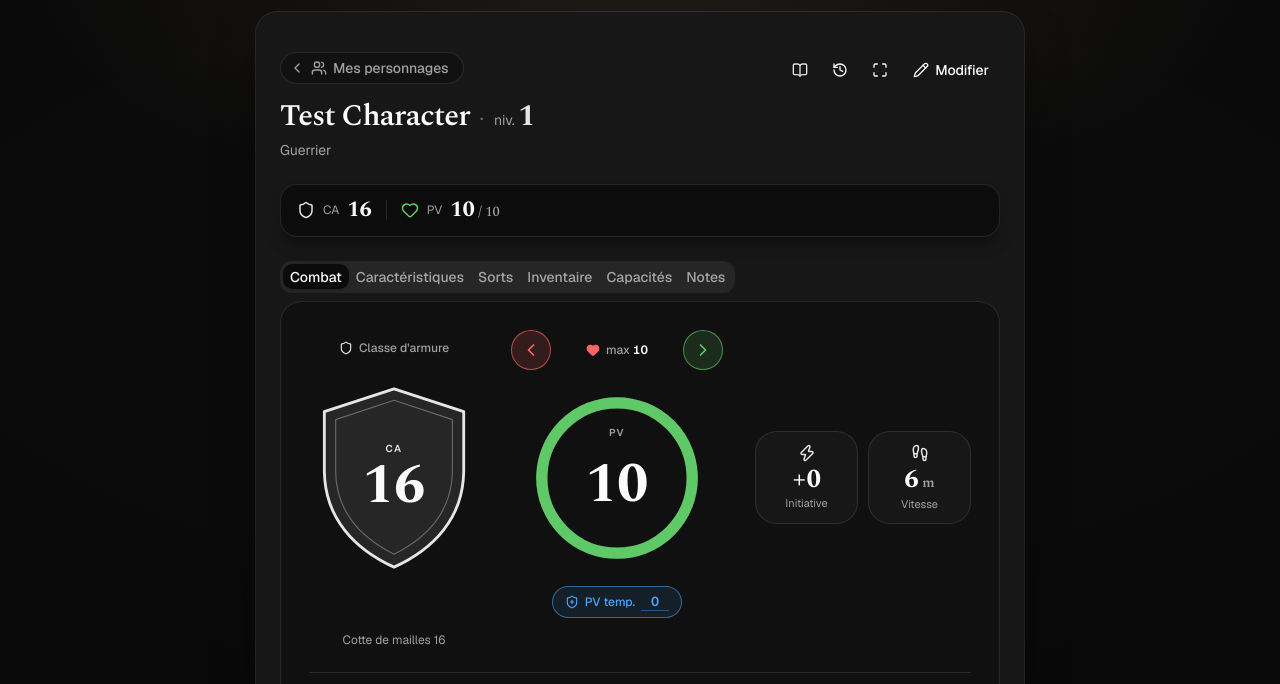
Test: PlayDetailSheet (via CharacterPlay) › opens an inventory item from the Inventaire tab; the stepper keeps its own action
The width and height of the screenshot is (1280, 684).
Expected: the heading "Test Character" is shown, x1=280 y1=98 x2=470 y2=134
Click the tab "Inventaire": (560, 277) x1=520 y1=264 x2=599 y2=289
(page scrolled)
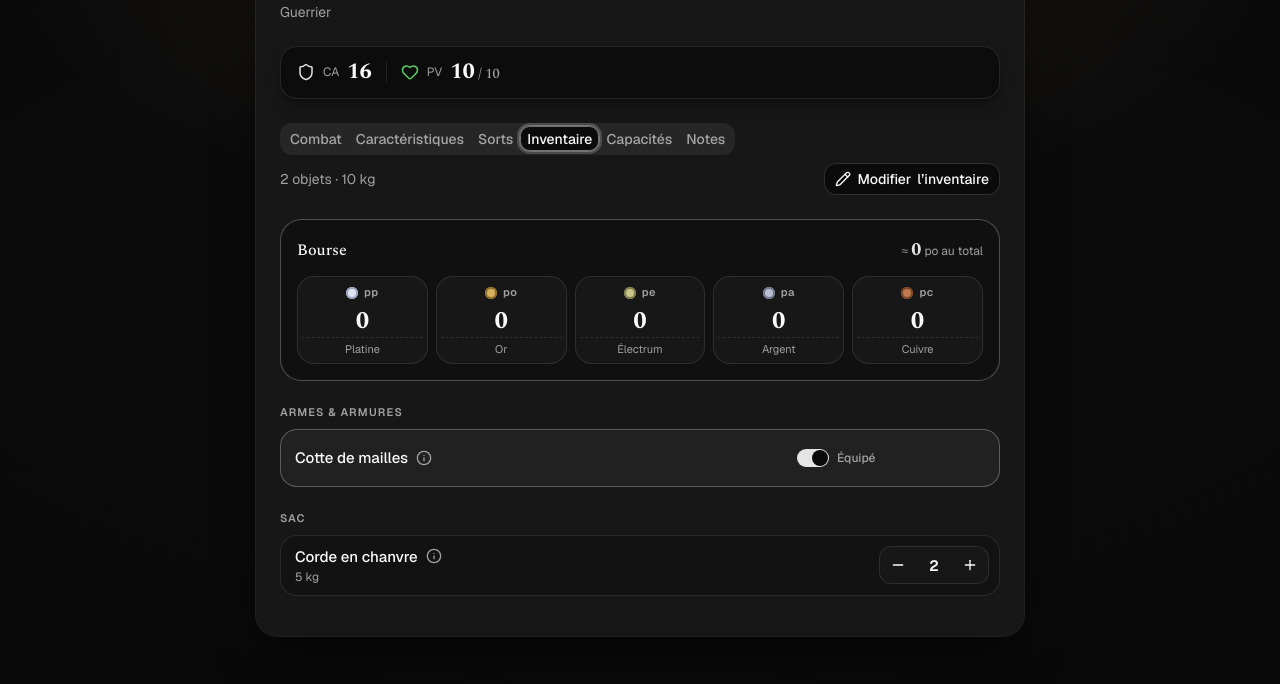
Click the button named "Ajouter 1 Corde en chanvre": (970, 565) x1=952 y1=547 x2=988 y2=583
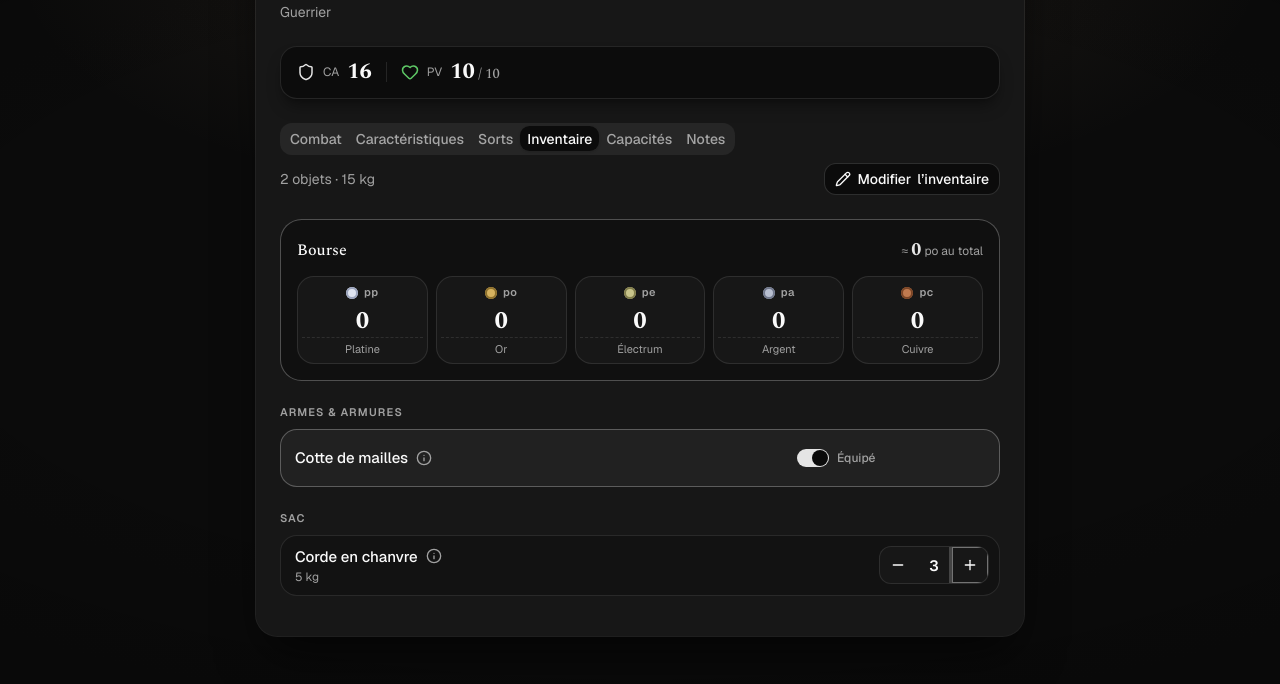
Click the button named "Détails : Corde en chanvre": (640, 565) x1=281 y1=536 x2=999 y2=595
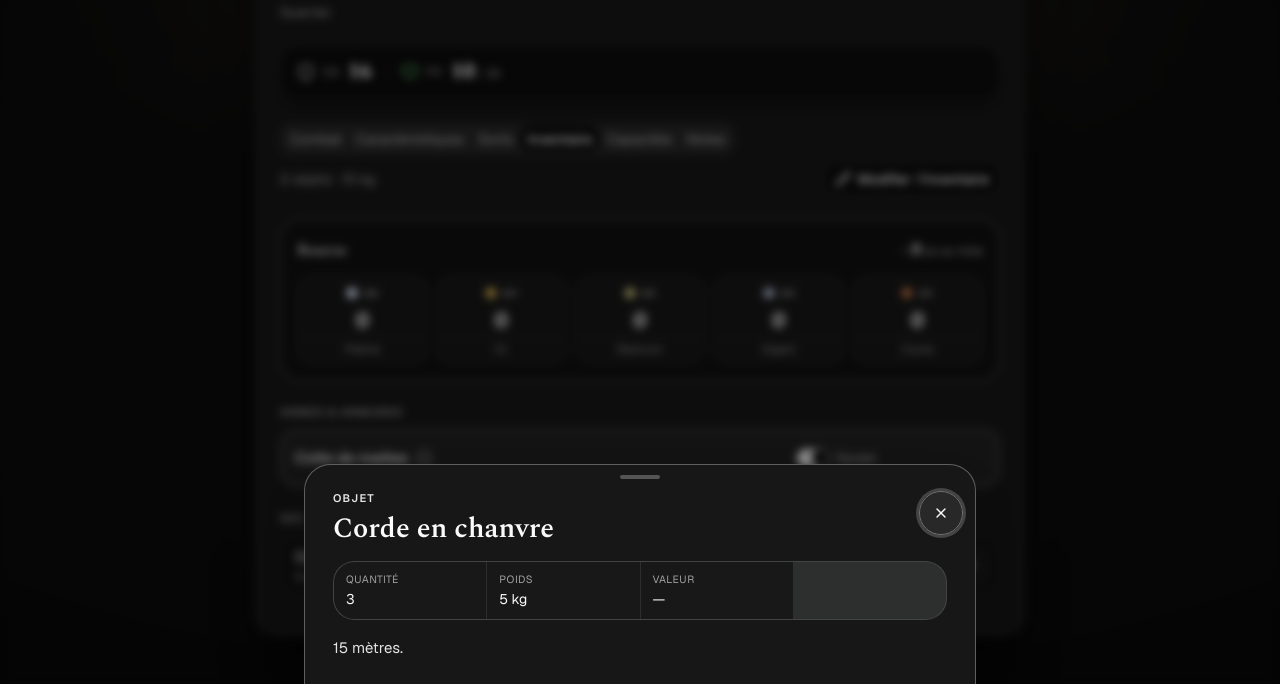
Now the text "Objet" is shown, box x1=333 y1=491 x2=375 y2=505
Now the text "3" is shown, box x1=346 y1=590 x2=355 y2=608
Now the text "5 kg" is shown, box x1=499 y1=590 x2=527 y2=608
Click the button named "Fermer": (941, 513) x1=919 y1=491 x2=963 y2=535
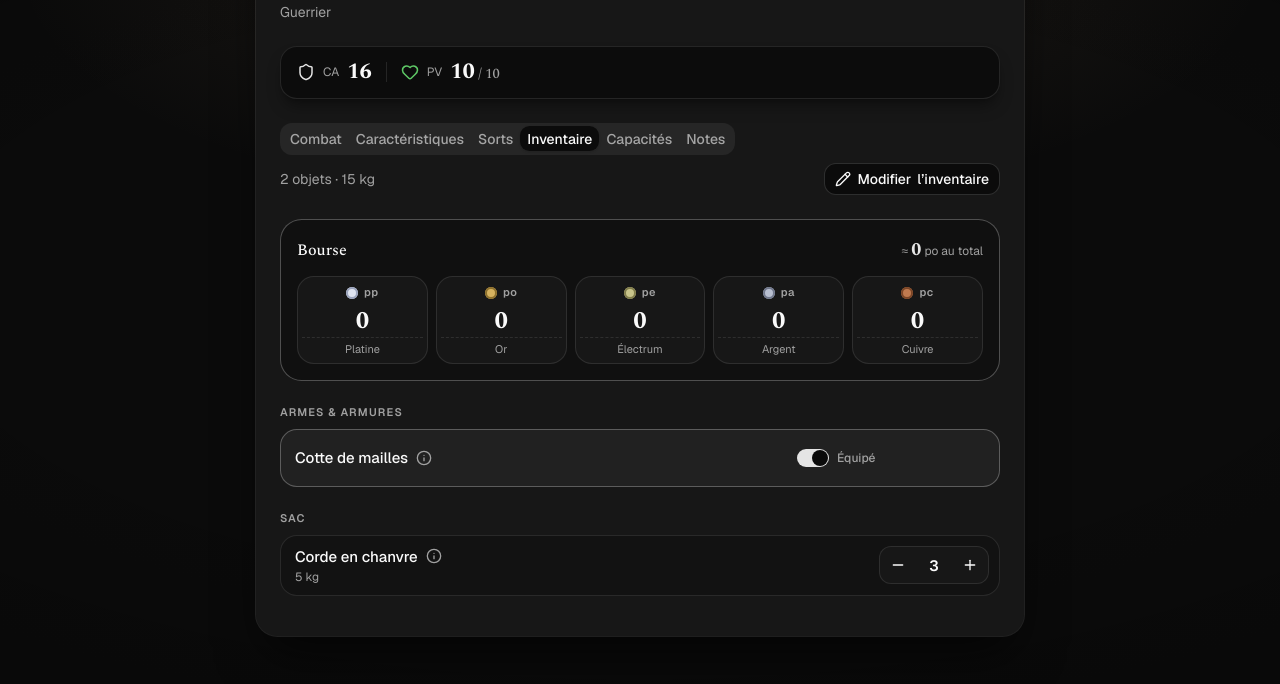
Click the button named "Détails : Cotte de mailles": (640, 458) x1=281 y1=430 x2=999 y2=486
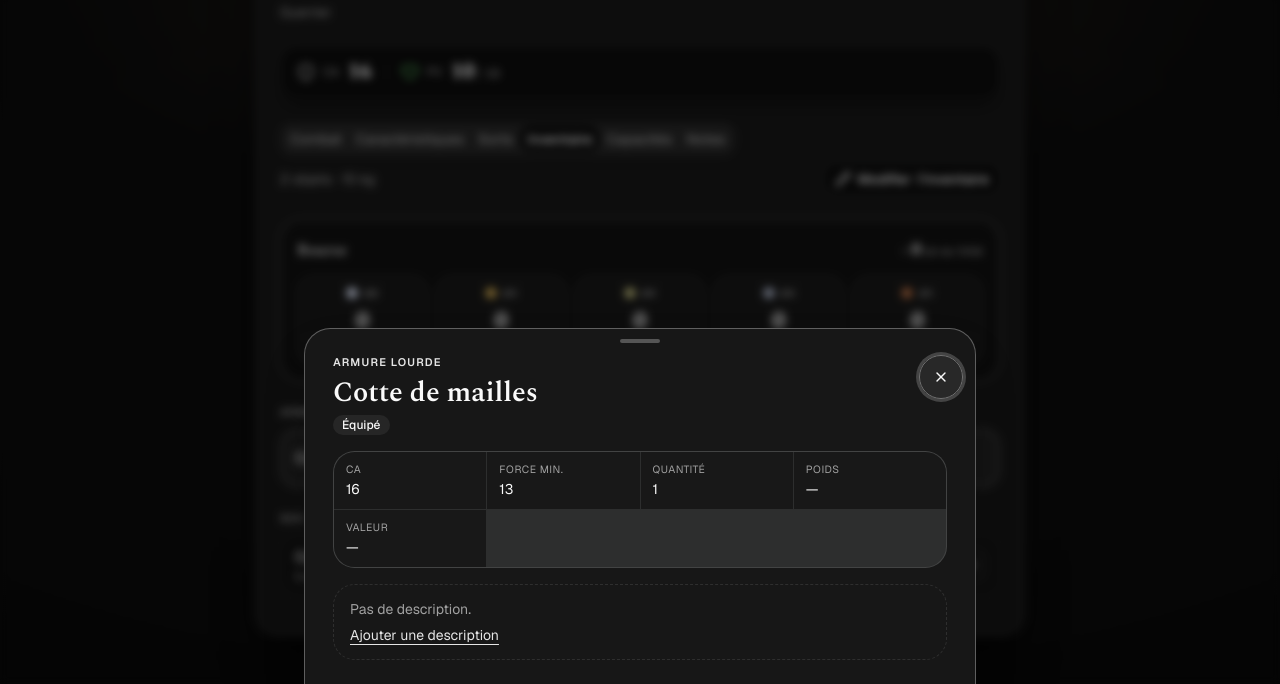
Now the text "Armure lourde" is shown, box x1=333 y1=355 x2=442 y2=369
Now the icon "Équipé" is shown, box x1=333 y1=415 x2=390 y2=435
Now the text "16" is shown, box x1=346 y1=480 x2=360 y2=498
